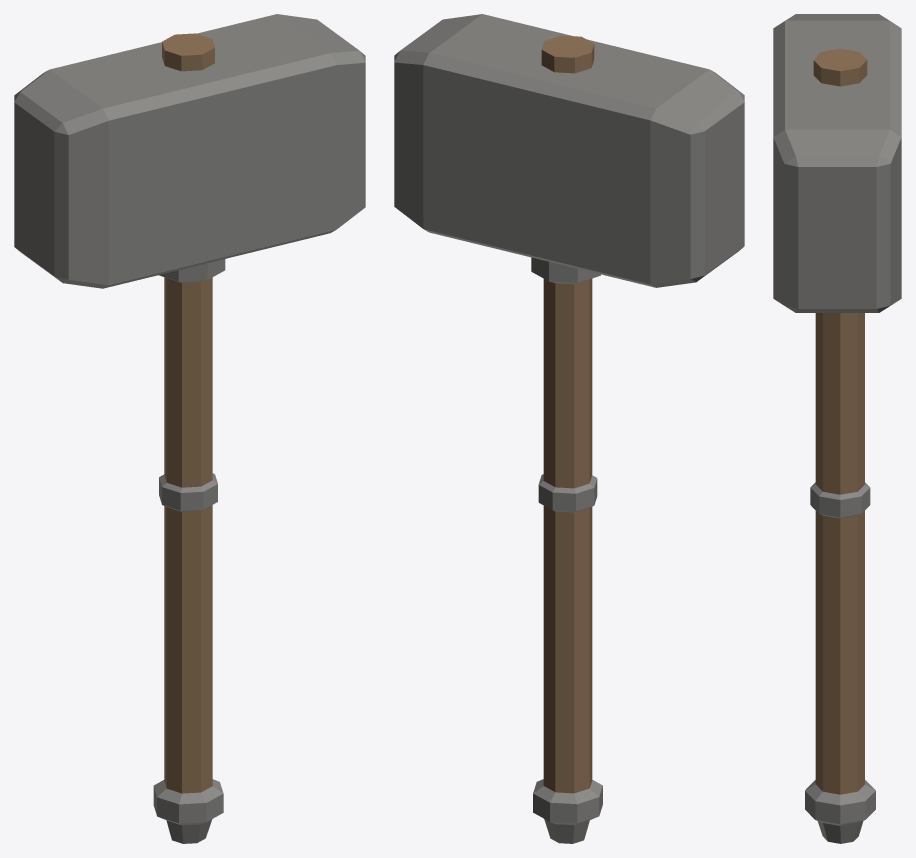
Rendered from SM_pwe_gauls_hammer_04.fbx.
The picture shows the model from 3 angles, left to right: view 1: azimuth 30°, elevation 25°; view 2: azimuth 150°, elevation 25°; view 3: azimuth 270°, elevation 25°; orthographic projection.
Parts seen in each view (by area): view 1: SM_pwe_gauls_hammer_04; view 2: SM_pwe_gauls_hammer_04; view 3: SM_pwe_gauls_hammer_04.
Part boxes in pixels (bbox=[...]): SM_pwe_gauls_hammer_04: bbox=[14, 14, 365, 843]; SM_pwe_gauls_hammer_04: bbox=[394, 14, 744, 843]; SM_pwe_gauls_hammer_04: bbox=[773, 14, 901, 843].
Bounding box in the file's own units: 32.66 × 79.38 × 11.87.
